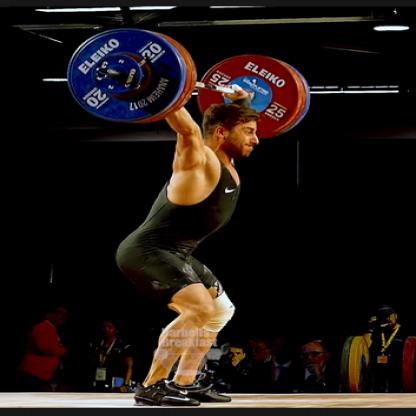Barbell: (59, 22, 216, 143)
